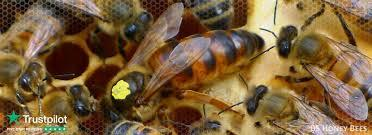Queen-Bee: (102, 28, 268, 122)
worker-bee: (265, 14, 372, 107), (231, 75, 339, 135)
